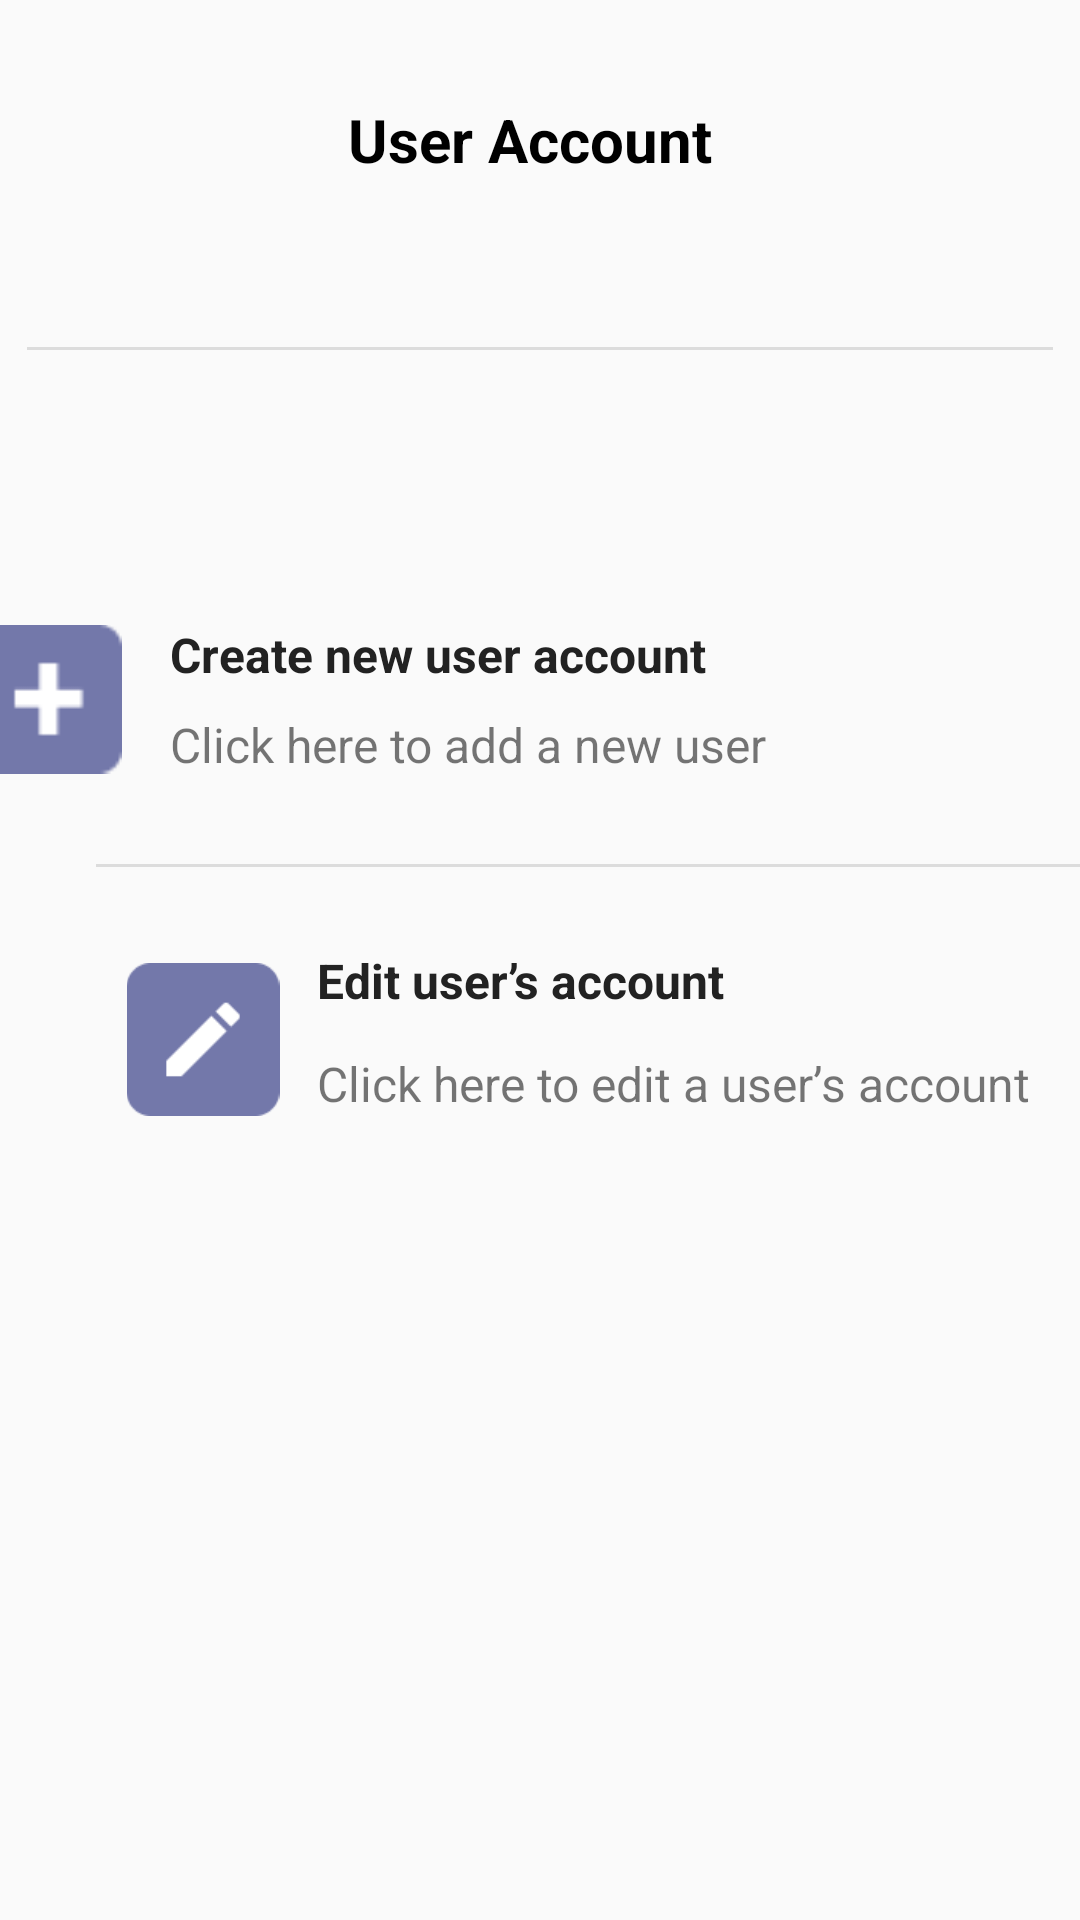

Icon click points for this 1080px×1920px phone screenshot, format point (x, y):
Pencil Icon: point (203, 1039)
